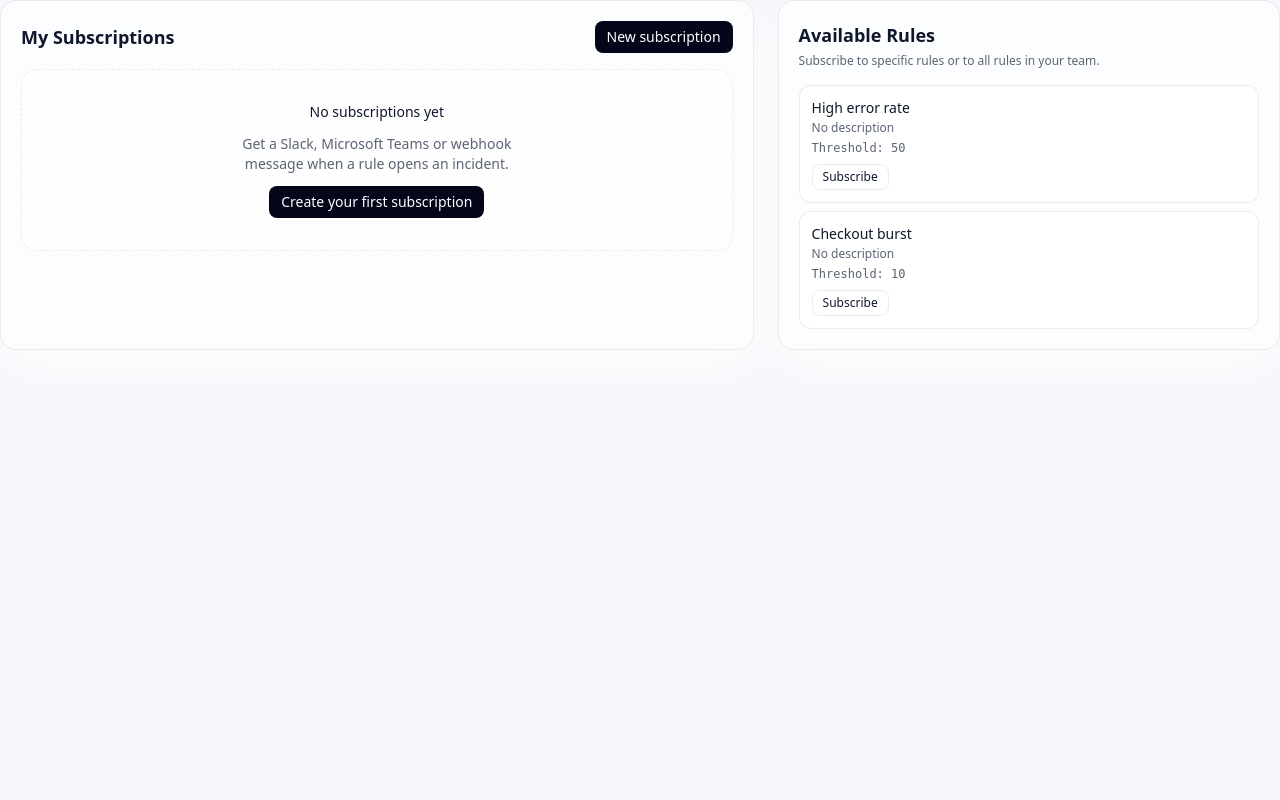
Test: create form › blocks an empty URL before any request and marks the field invalid
Click the button "New subscription". click: (664, 37)
box: [594,21,733,53]
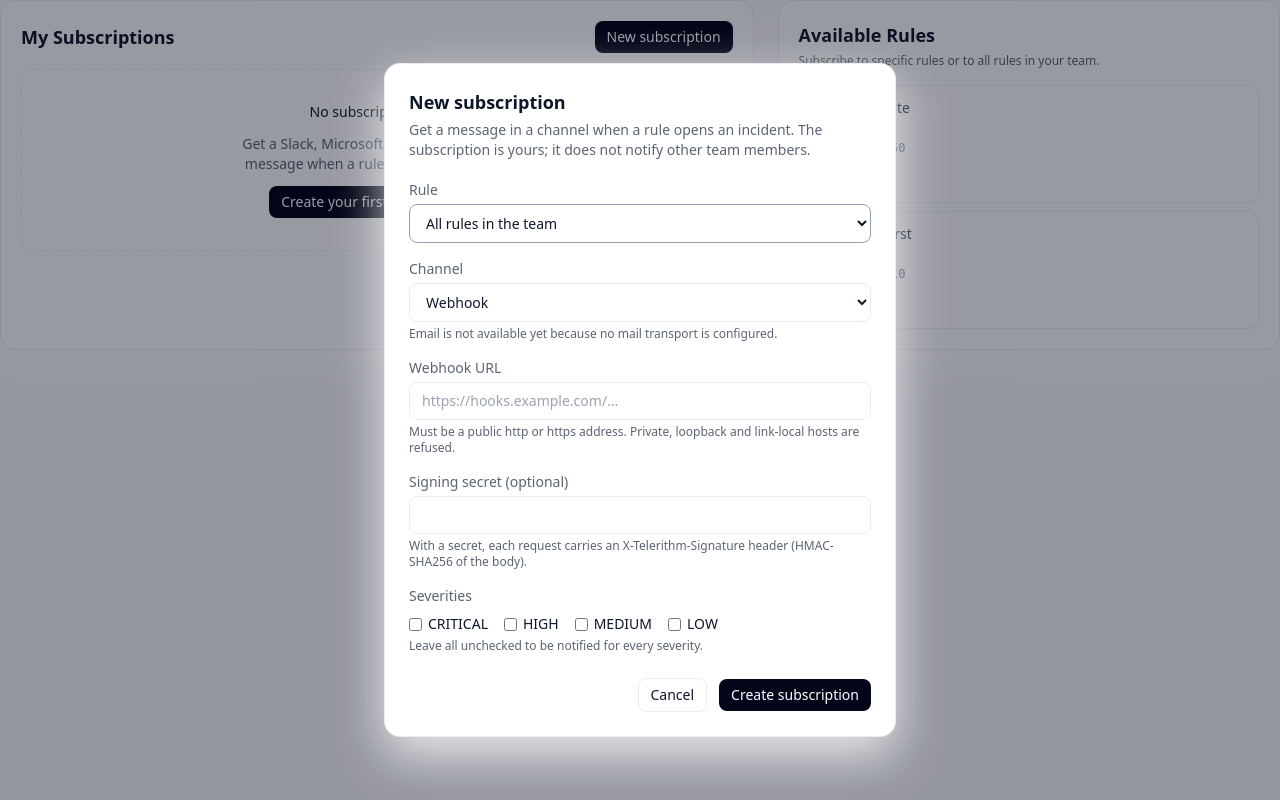
Click the button "Create subscription". click: (795, 695)
box: [719,679,871,711]
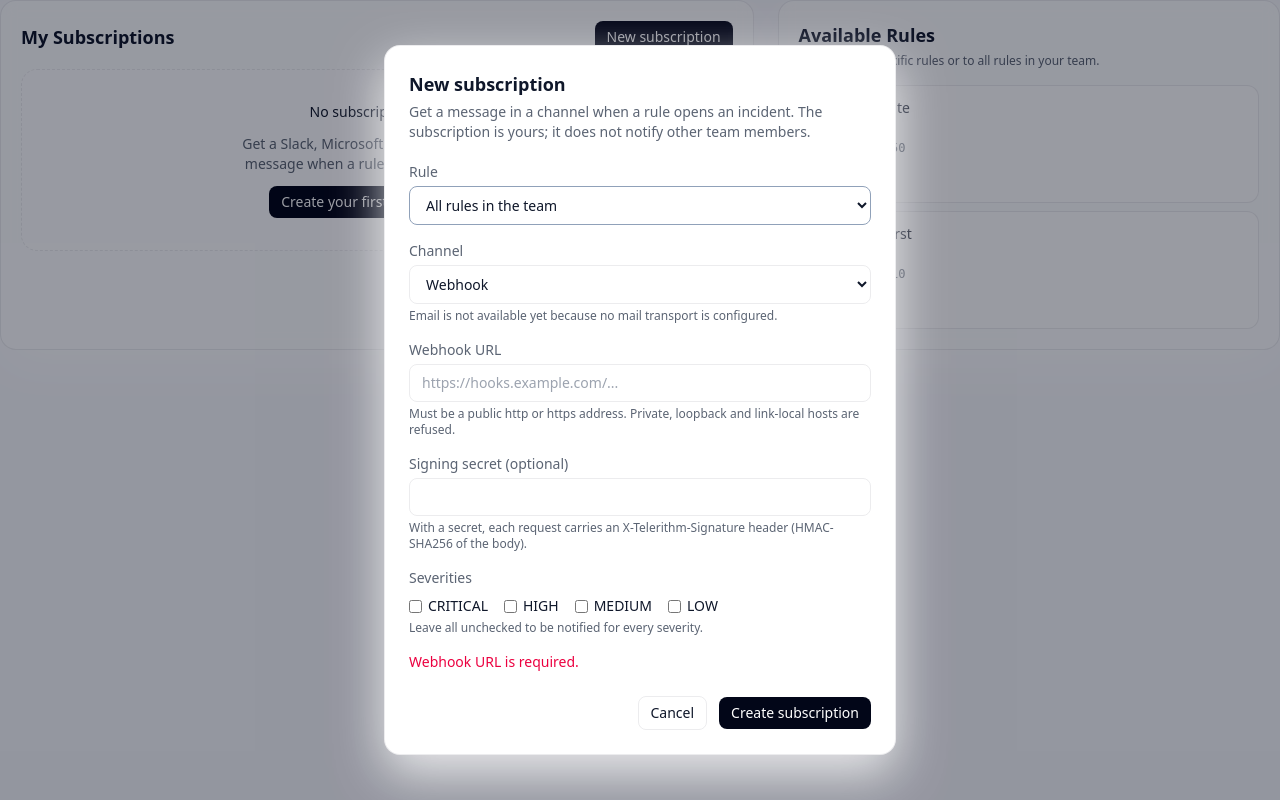
Expected: the message reads "Webhook URL is required.", [409,652,579,671]
